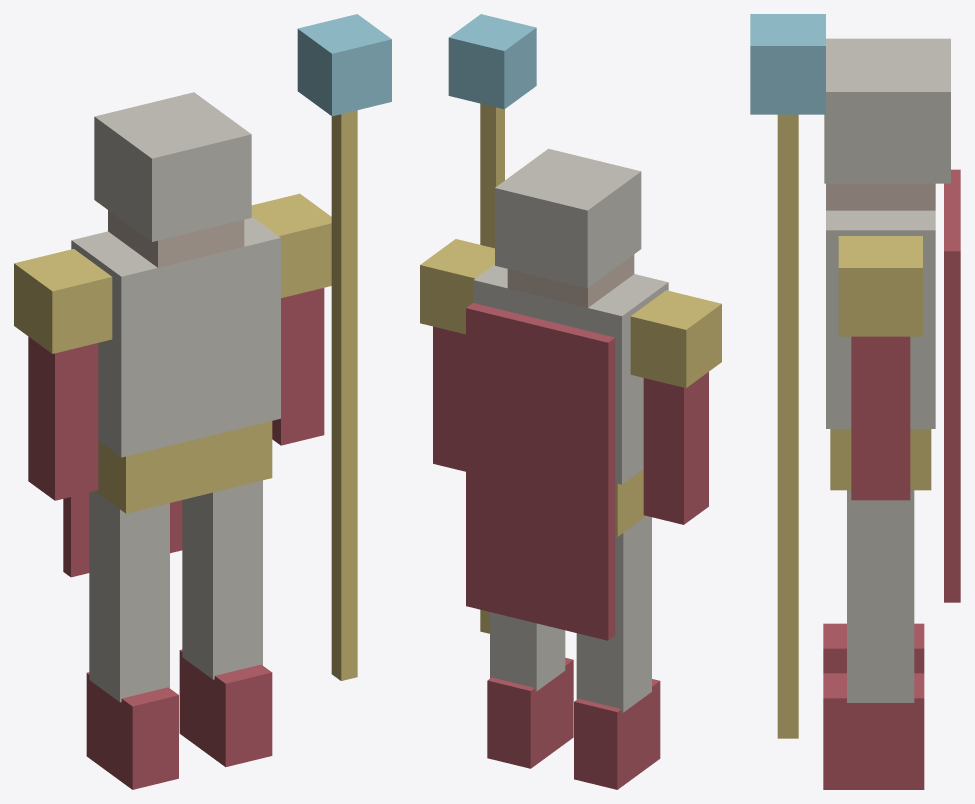
The model's file is grand_inquisitor_vael.glb.
3 views of the same model, side by side, from view 1: azimuth 30°, elevation 25°; view 2: azimuth 150°, elevation 25°; view 3: azimuth 270°, elevation 25° (orthographic). The views are drawn at different scales.
Visible parts, largest first — view 1: grand_inquisitor_vael; view 2: grand_inquisitor_vael; view 3: grand_inquisitor_vael.
Boxes of the visible parts, x1,y1,x2,y2 form: grand_inquisitor_vael: (14, 14, 391, 789); grand_inquisitor_vael: (420, 14, 721, 789); grand_inquisitor_vael: (750, 14, 960, 789).
Size of the model in its own units: 1.1 by 2.53 by 0.61.
